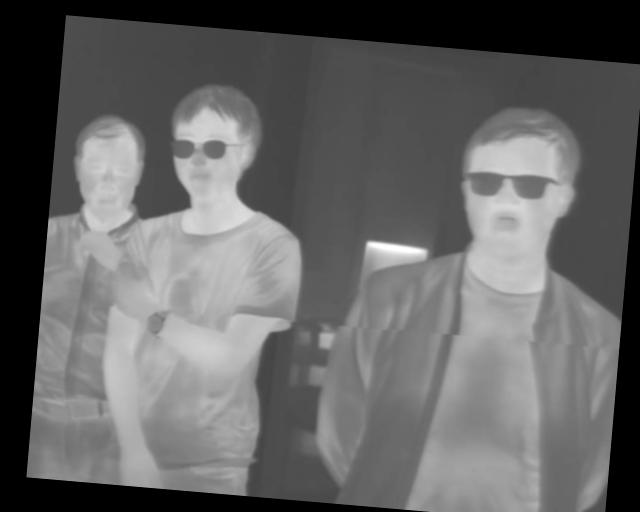face: (453, 99, 585, 264), (163, 78, 266, 206), (67, 109, 150, 225)
